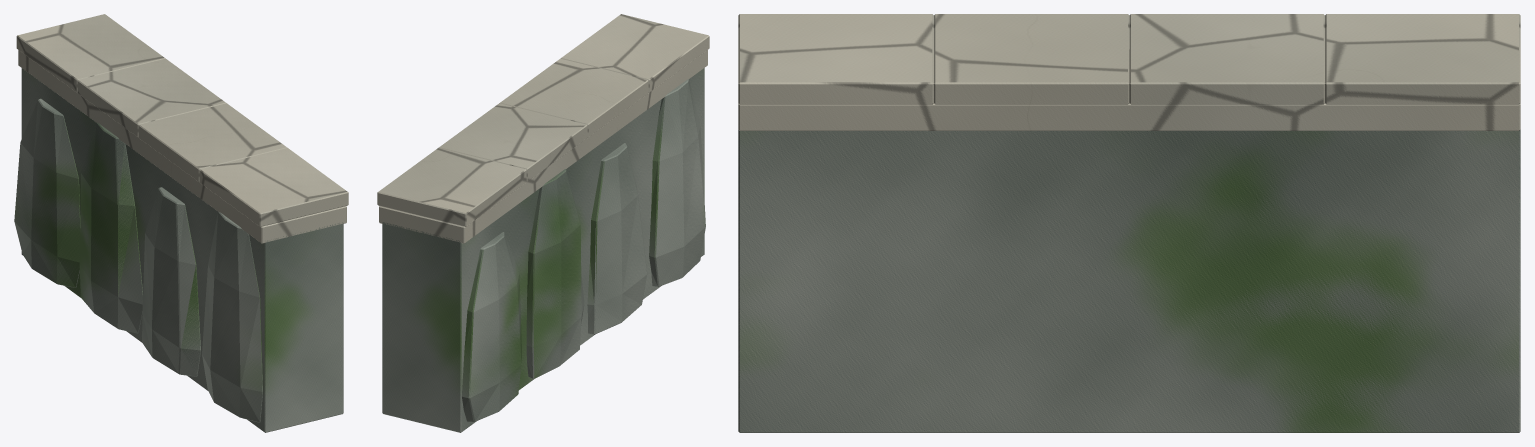
The model's file is t08_platform_edge.fbx.
3 renders of one model, left to right at view 1: azimuth 30°, elevation 25°; view 2: azimuth 150°, elevation 25°; view 3: azimuth 270°, elevation 25°, orthographic. The views are drawn at different scales.
Parts seen in each view (by area): view 1: t08_platform_edge.001; view 2: t08_platform_edge.001; view 3: t08_platform_edge.001.
Boxes of the visible parts, x1,y1,x2,y2 form: t08_platform_edge.001: (14, 14, 348, 432); t08_platform_edge.001: (377, 14, 709, 432); t08_platform_edge.001: (738, 14, 1520, 432).
Size of the model in its own units: 25600 by 6132 by 12800.
